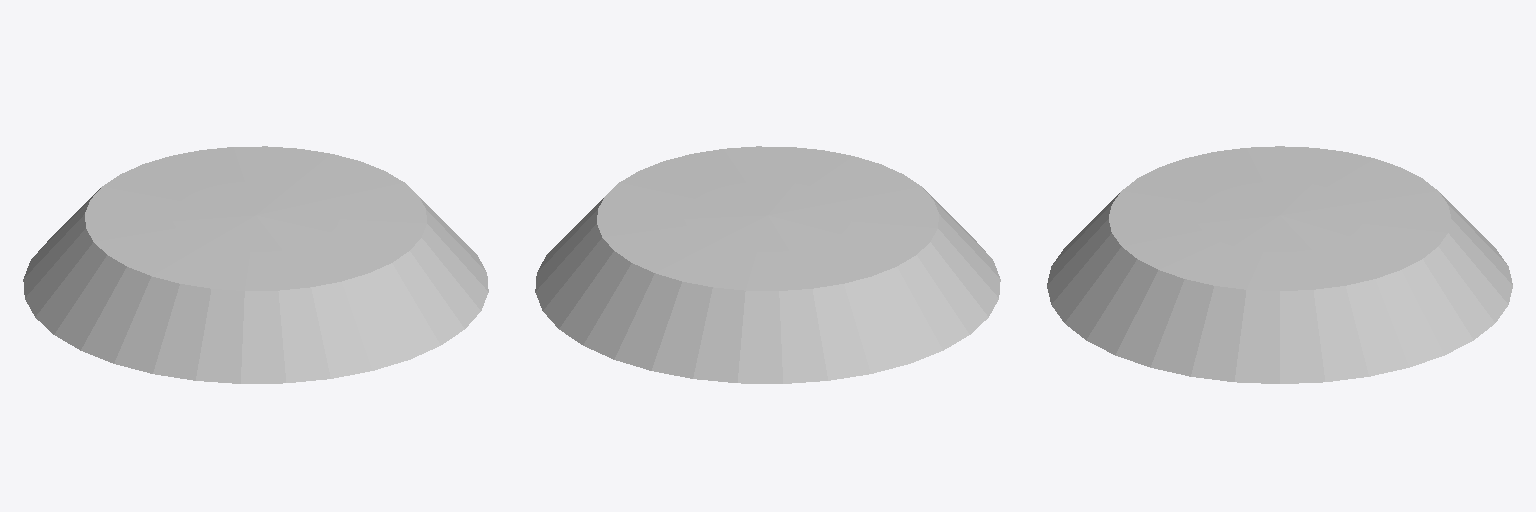
File: roomba_Base.obj
3 renders of one model, left to right at view 1: azimuth 30°, elevation 25°; view 2: azimuth 150°, elevation 25°; view 3: azimuth 270°, elevation 25°, orthographic.
Parts seen in each view (by area): view 1: Cylinder; view 2: Cylinder; view 3: Cylinder.
Part boxes in pixels (x1,y1,x2,y2): Cylinder: (23,146,488,383); Cylinder: (535,146,1000,383); Cylinder: (1047,146,1512,383).
Bounding box in the file's own units: 1.94 × 0.3725 × 1.94.